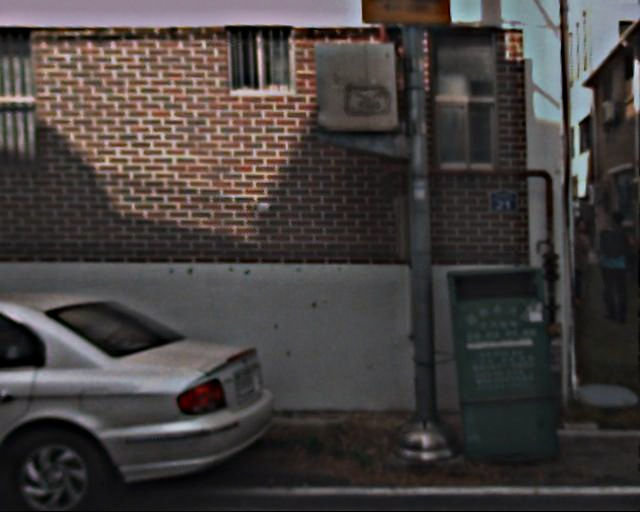person: (580, 210, 640, 325), (550, 219, 601, 311)
